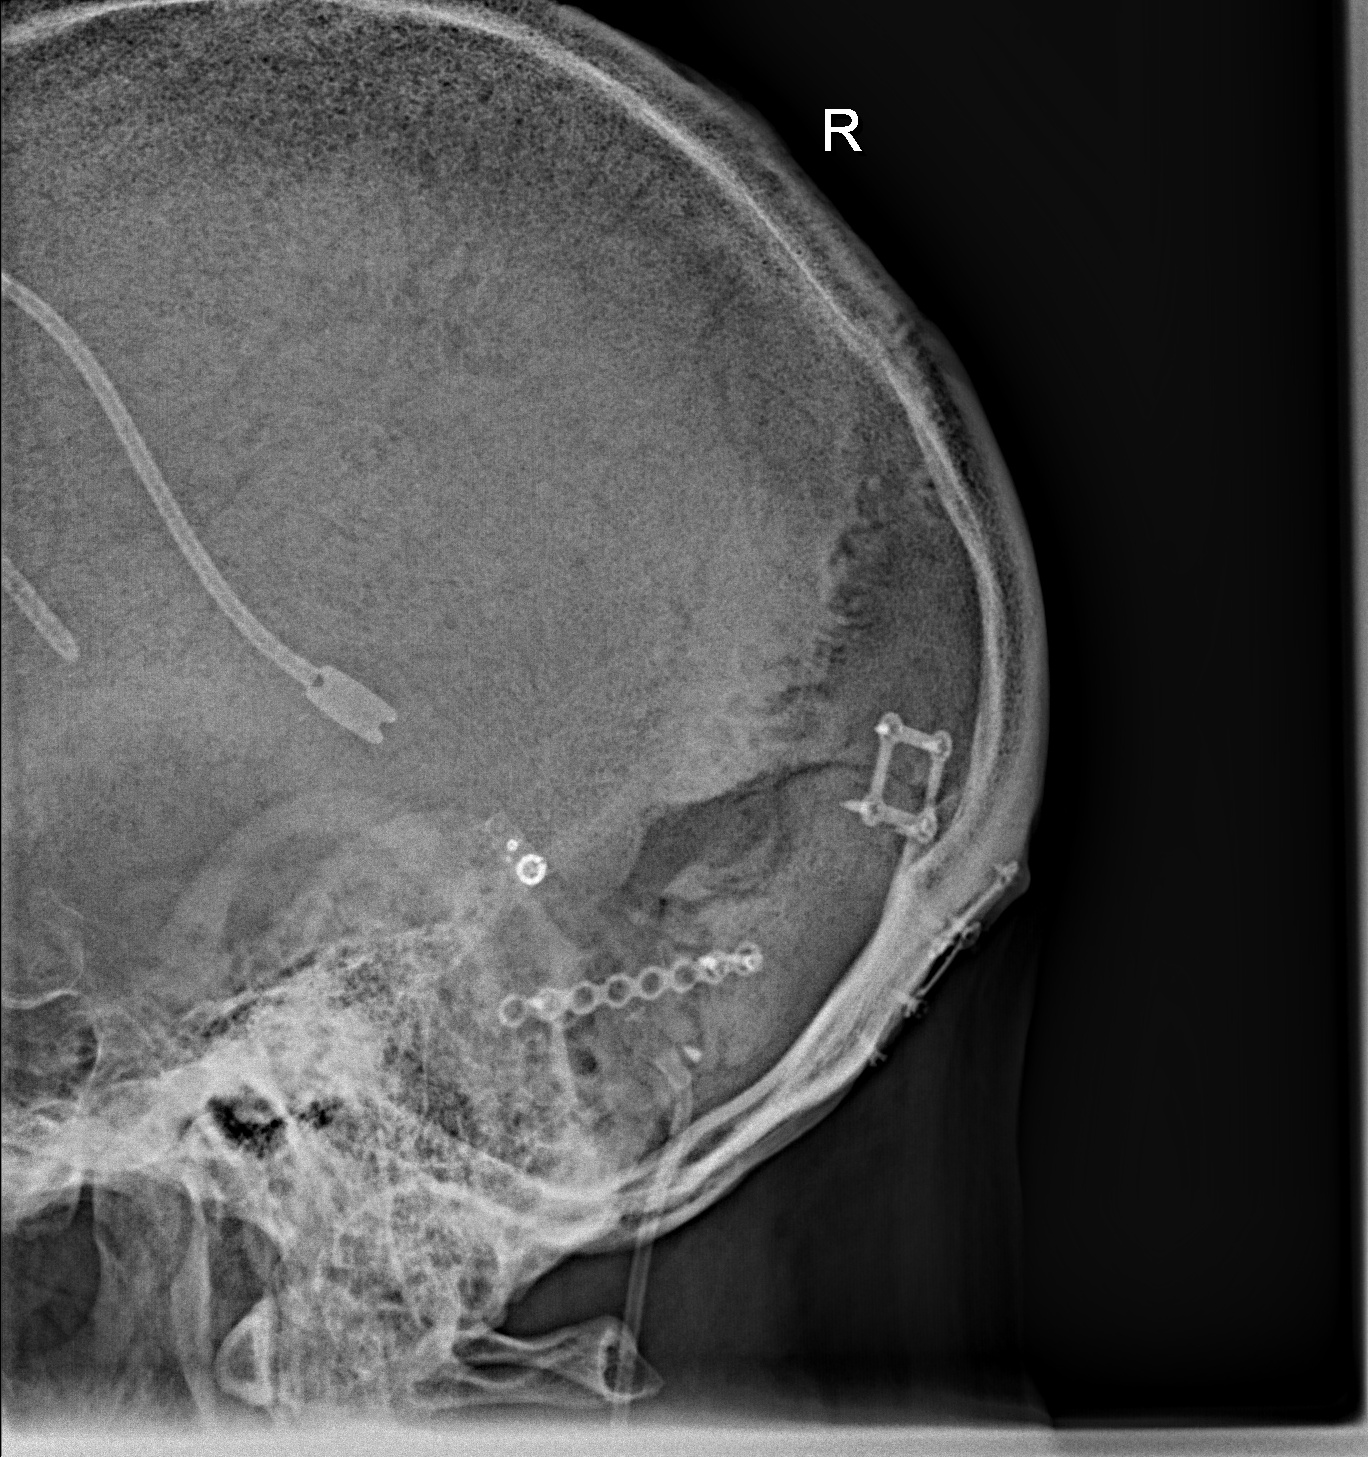Codman Hakim: (472, 801, 562, 903)
